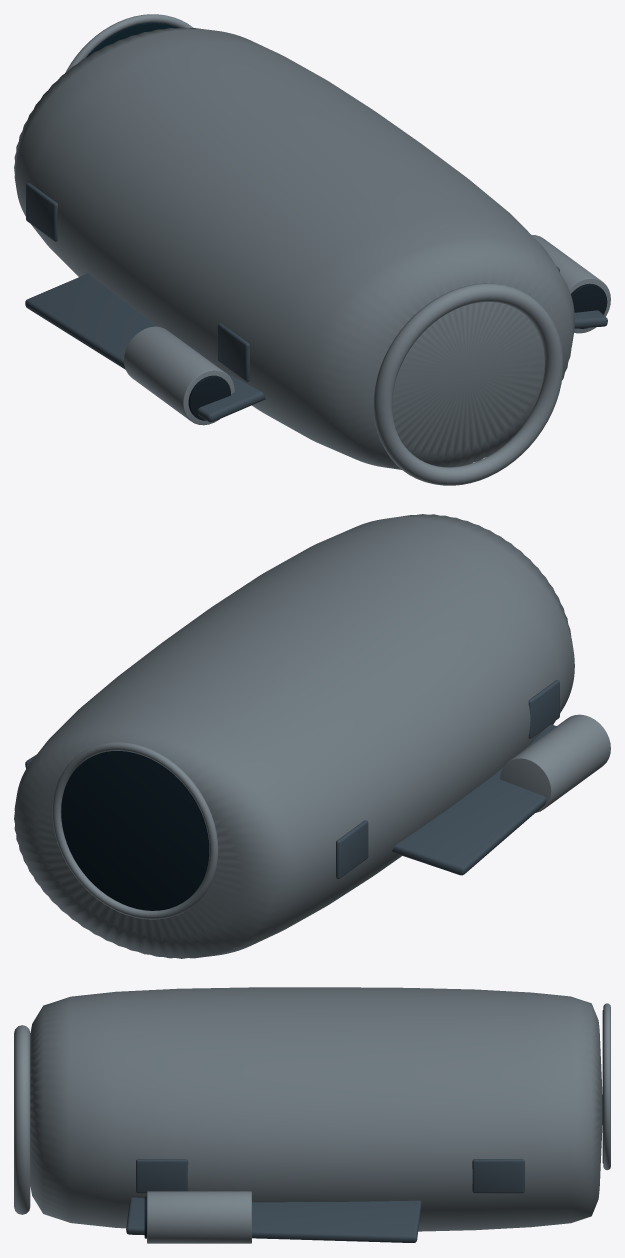
Rendered from rescue-craft.glb.
3 views of the same model, one above another, from view 1: azimuth 30°, elevation 25°; view 2: azimuth 150°, elevation 25°; view 3: azimuth 270°, elevation 25° (orthographic). The views are drawn at different scales.
Parts seen in each view (by area): view 1: ContinuousRescueHull, ShuttleRearDock, Wing-1, Thruster-1, Thruster1, HullSmallPanel-1-2.3, HullSmallPanel-12.2, ShuttleWindowFrame, ThrusterNozzle-1, ThrusterNozzle1, ShuttleFrontGlass; view 2: ContinuousRescueHull, ShuttleFrontGlass, Wing-1, Thruster-1, ShuttleWindowFrame, HullSmallPanel-12.2, HullSmallPanel-1-2.3; view 3: ContinuousRescueHull, Wing1, Thruster1, ShuttleRearDock, HullSmallPanel12.2, HullSmallPanel1-2.3, ShuttleWindowFrame.
Part boxes in pixels (x1,y1,x2,y2): ContinuousRescueHull: [14, 27, 574, 469]; ShuttleRearDock: [373, 283, 563, 485]; Wing-1: [25, 273, 265, 422]; Thruster-1: [124, 326, 234, 425]; Thruster1: [532, 235, 610, 333]; HullSmallPanel-1-2.3: [217, 323, 249, 381]; HullSmallPanel-12.2: [26, 182, 57, 241]; ShuttleWindowFrame: [65, 14, 193, 72]; ThrusterNozzle-1: [188, 375, 230, 420]; ThrusterNozzle1: [571, 283, 607, 328]; ShuttleFrontGlass: [86, 22, 178, 57]; ContinuousRescueHull: [14, 514, 574, 958]; ShuttleFrontGlass: [61, 751, 209, 910]; Wing-1: [392, 724, 556, 875]; Thruster-1: [500, 714, 610, 812]; ShuttleWindowFrame: [52, 742, 218, 919]; HullSmallPanel-12.2: [336, 820, 368, 878]; HullSmallPanel-1-2.3: [528, 680, 559, 738]; ContinuousRescueHull: [30, 987, 602, 1231]; Wing1: [126, 1197, 421, 1242]; Thruster1: [147, 1191, 251, 1243]; ShuttleRearDock: [14, 1025, 30, 1214]; HullSmallPanel12.2: [472, 1159, 524, 1193]; HullSmallPanel1-2.3: [136, 1159, 188, 1193]; ShuttleWindowFrame: [603, 1003, 610, 1170].
Bounding box in the file's own units: 5.96 × 2.99 × 7.98.
